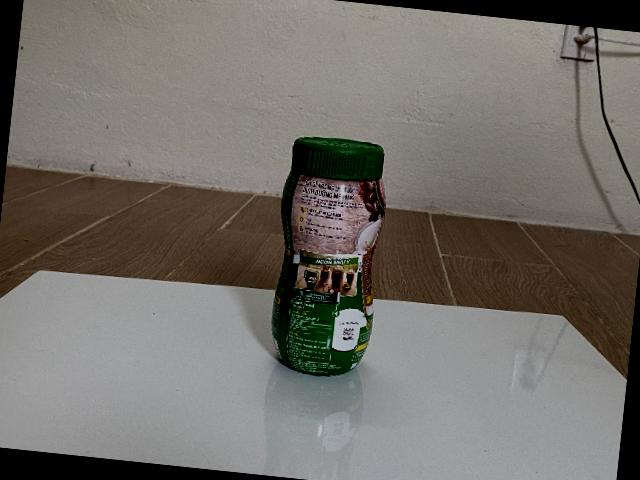milo: (269, 137, 385, 379)
